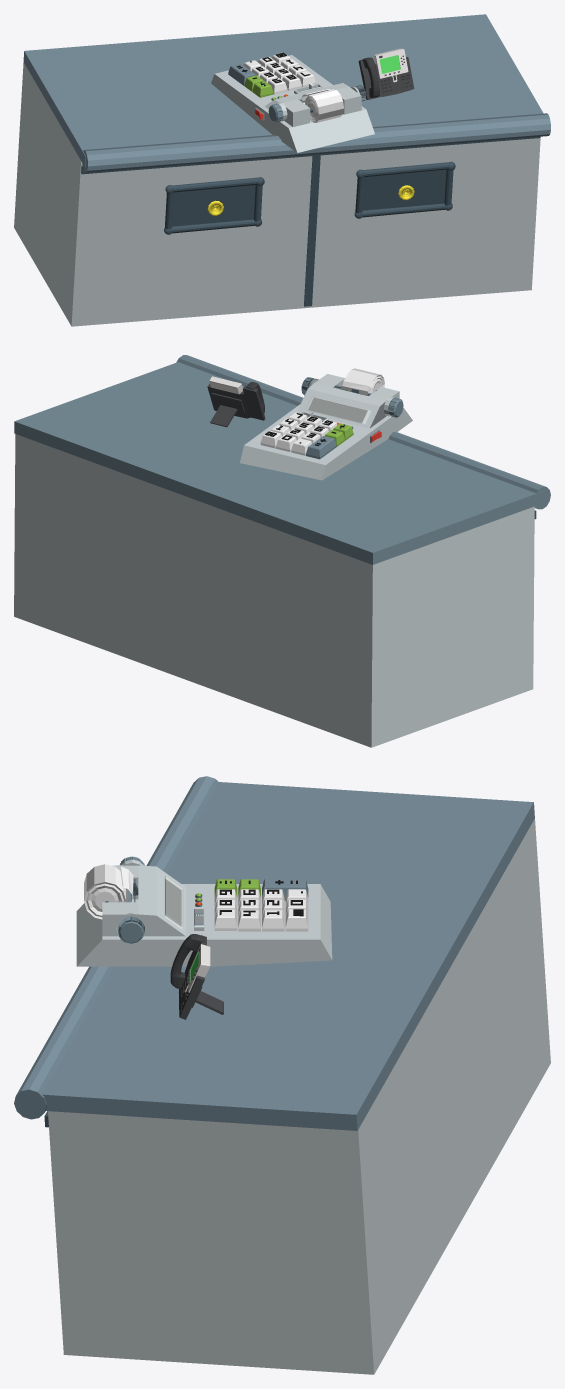
The model's file is reception_lvl2.glb.
The picture shows the model from 3 angles, top to bottom: view 1: azimuth 30°, elevation 25°; view 2: azimuth 150°, elevation 25°; view 3: azimuth 270°, elevation 25°; orthographic projection. The views are drawn at different scales.
Visible parts, largest first — view 1: Node, group1466548647, Phone Body, group48887536, group1325531539, Handle; view 2: Node, group1466548647, group48887536, Phone Body, group127134564, group1325531539; view 3: Node, group1466548647, group48887536, Phone Body, group1325531539, group127134564, Handle.
Part boxes in pixels (x1,y1,x2,y2): Node: (14,14,550,326); group1466548647: (211,55,374,152); Phone Body: (358,48,414,99); group48887536: (265,83,361,126); group1325531539: (305,89,343,122); Handle: (362,57,379,97); Node: (14,355,550,747); group1466548647: (240,404,412,480); group48887536: (297,374,399,428); Phone Body: (207,376,265,427); group127134564: (304,396,370,424); group1325531539: (346,368,384,395); Node: (14,776,550,1374); group1466548647: (76,884,332,966); group48887536: (102,865,185,936); Phone Body: (179,935,223,1019); group1325531539: (84,864,125,919); group127134564: (164,876,183,929); Handle: (170,934,204,989).
Bounding box in the file's own units: 2.53 × 1.24 × 1.76.
